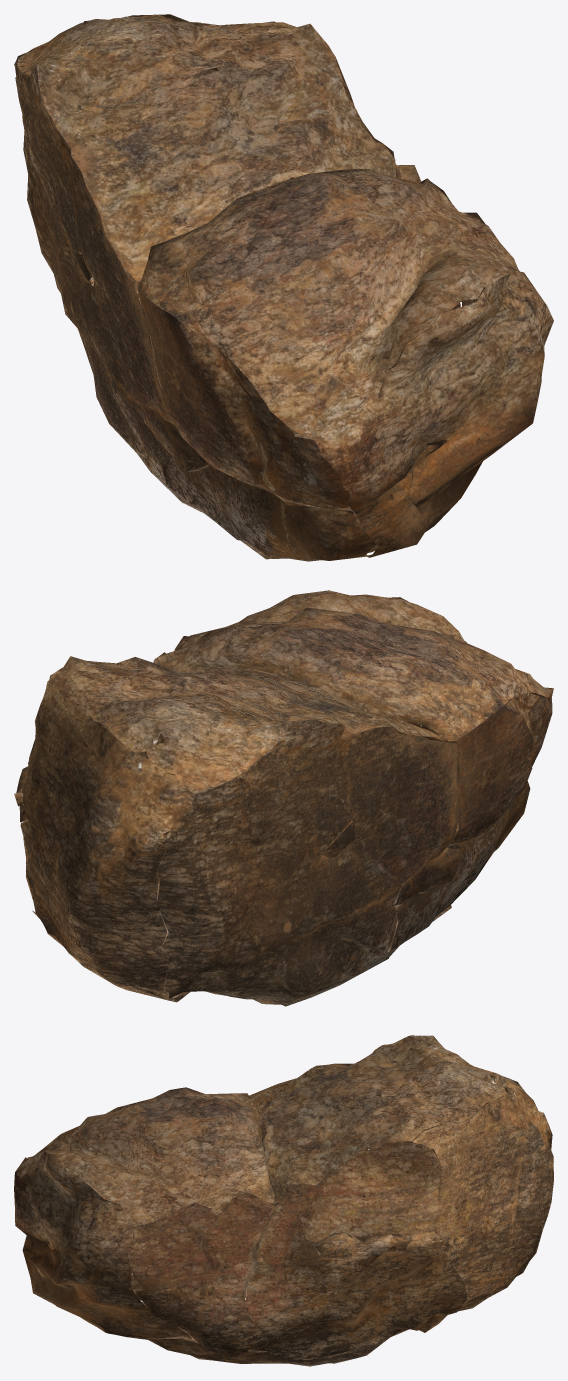
File: namaqualand_boulder_06.glb
3 views of the same model, one above another, from view 1: azimuth 30°, elevation 25°; view 2: azimuth 150°, elevation 25°; view 3: azimuth 270°, elevation 25° (orthographic). The views are drawn at different scales.
Visible parts, largest first — view 1: namaqualand_boulder_06; view 2: namaqualand_boulder_06; view 3: namaqualand_boulder_06.
Boxes of the visible parts, bbox=[...] form: namaqualand_boulder_06: bbox=[14, 14, 553, 561]; namaqualand_boulder_06: bbox=[14, 590, 553, 1006]; namaqualand_boulder_06: bbox=[14, 1035, 553, 1366].
Bounding box in the file's own units: 0.6703 × 0.6467 × 1.2.
Materials: 1 (1 with a texture image).
